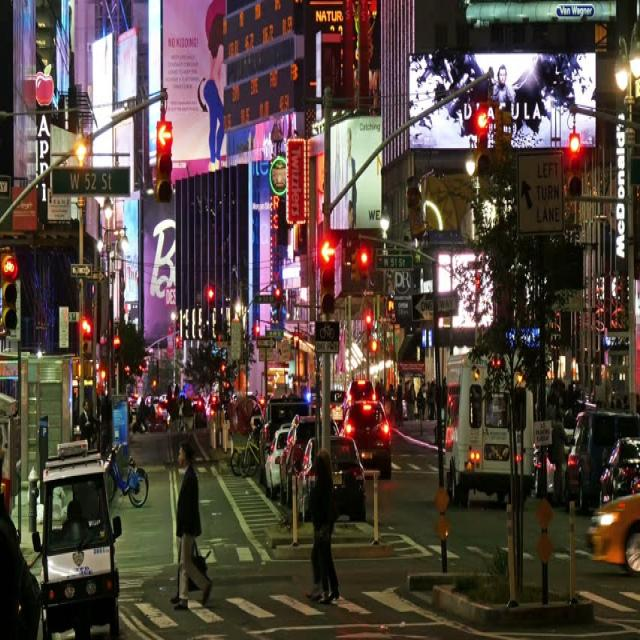body: (409, 53, 596, 152), (127, 380, 267, 452), (172, 437, 213, 612), (0, 488, 44, 640), (543, 374, 639, 434), (310, 446, 341, 606), (201, 11, 229, 176), (304, 452, 330, 604), (374, 373, 449, 423), (329, 123, 362, 228), (168, 541, 213, 608), (471, 385, 525, 431), (550, 408, 568, 508), (562, 179, 582, 245), (270, 109, 296, 156), (99, 389, 114, 452), (79, 400, 94, 453), (394, 376, 404, 428), (93, 395, 101, 452), (406, 382, 416, 422)
